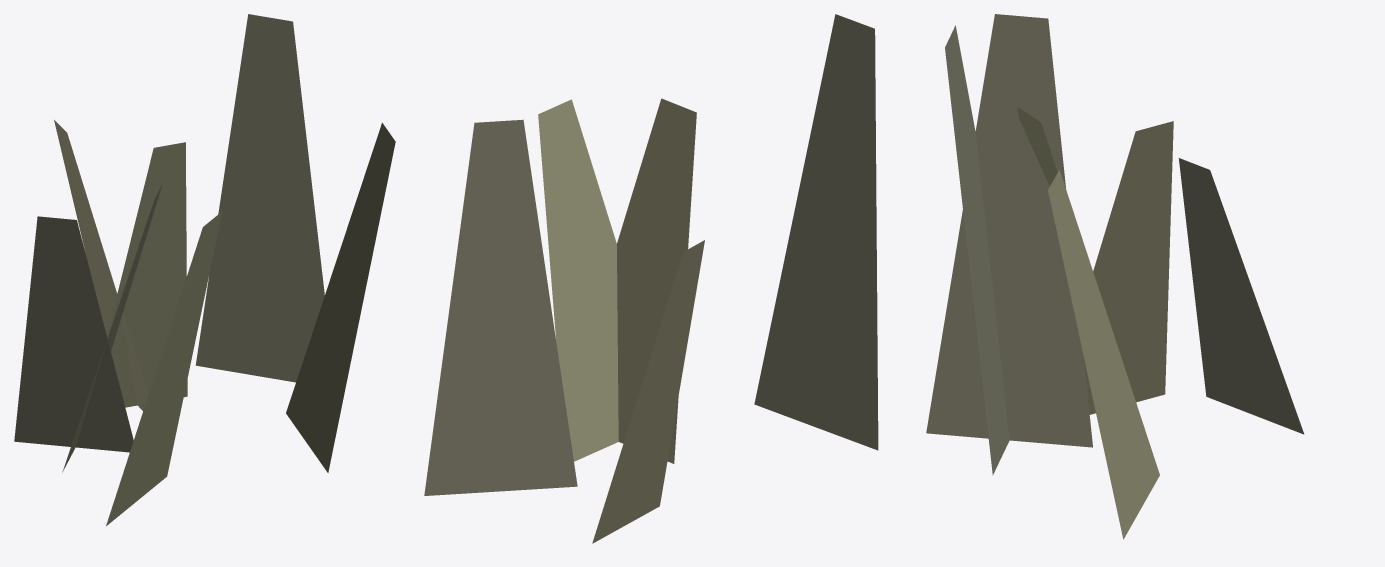
The model's file is shrub.temp.fern__winter.glb.
The picture shows the model from 3 angles, left to right: view 1: azimuth 30°, elevation 25°; view 2: azimuth 150°, elevation 25°; view 3: azimuth 270°, elevation 25°; orthographic projection. The views are drawn at different scales.
Parts seen in each view (by area): view 1: shrub.temp.fern__winter; view 2: shrub.temp.fern__winter; view 3: shrub.temp.fern__winter.
Boxes of the visible parts, left/top/right/bottom form: shrub.temp.fern__winter: left=14, top=14, right=395, bottom=526; shrub.temp.fern__winter: left=424, top=14, right=878, bottom=543; shrub.temp.fern__winter: left=926, top=14, right=1304, bottom=539.
Bounding box in the file's own units: 0.909 × 0.9974 × 1.01.
